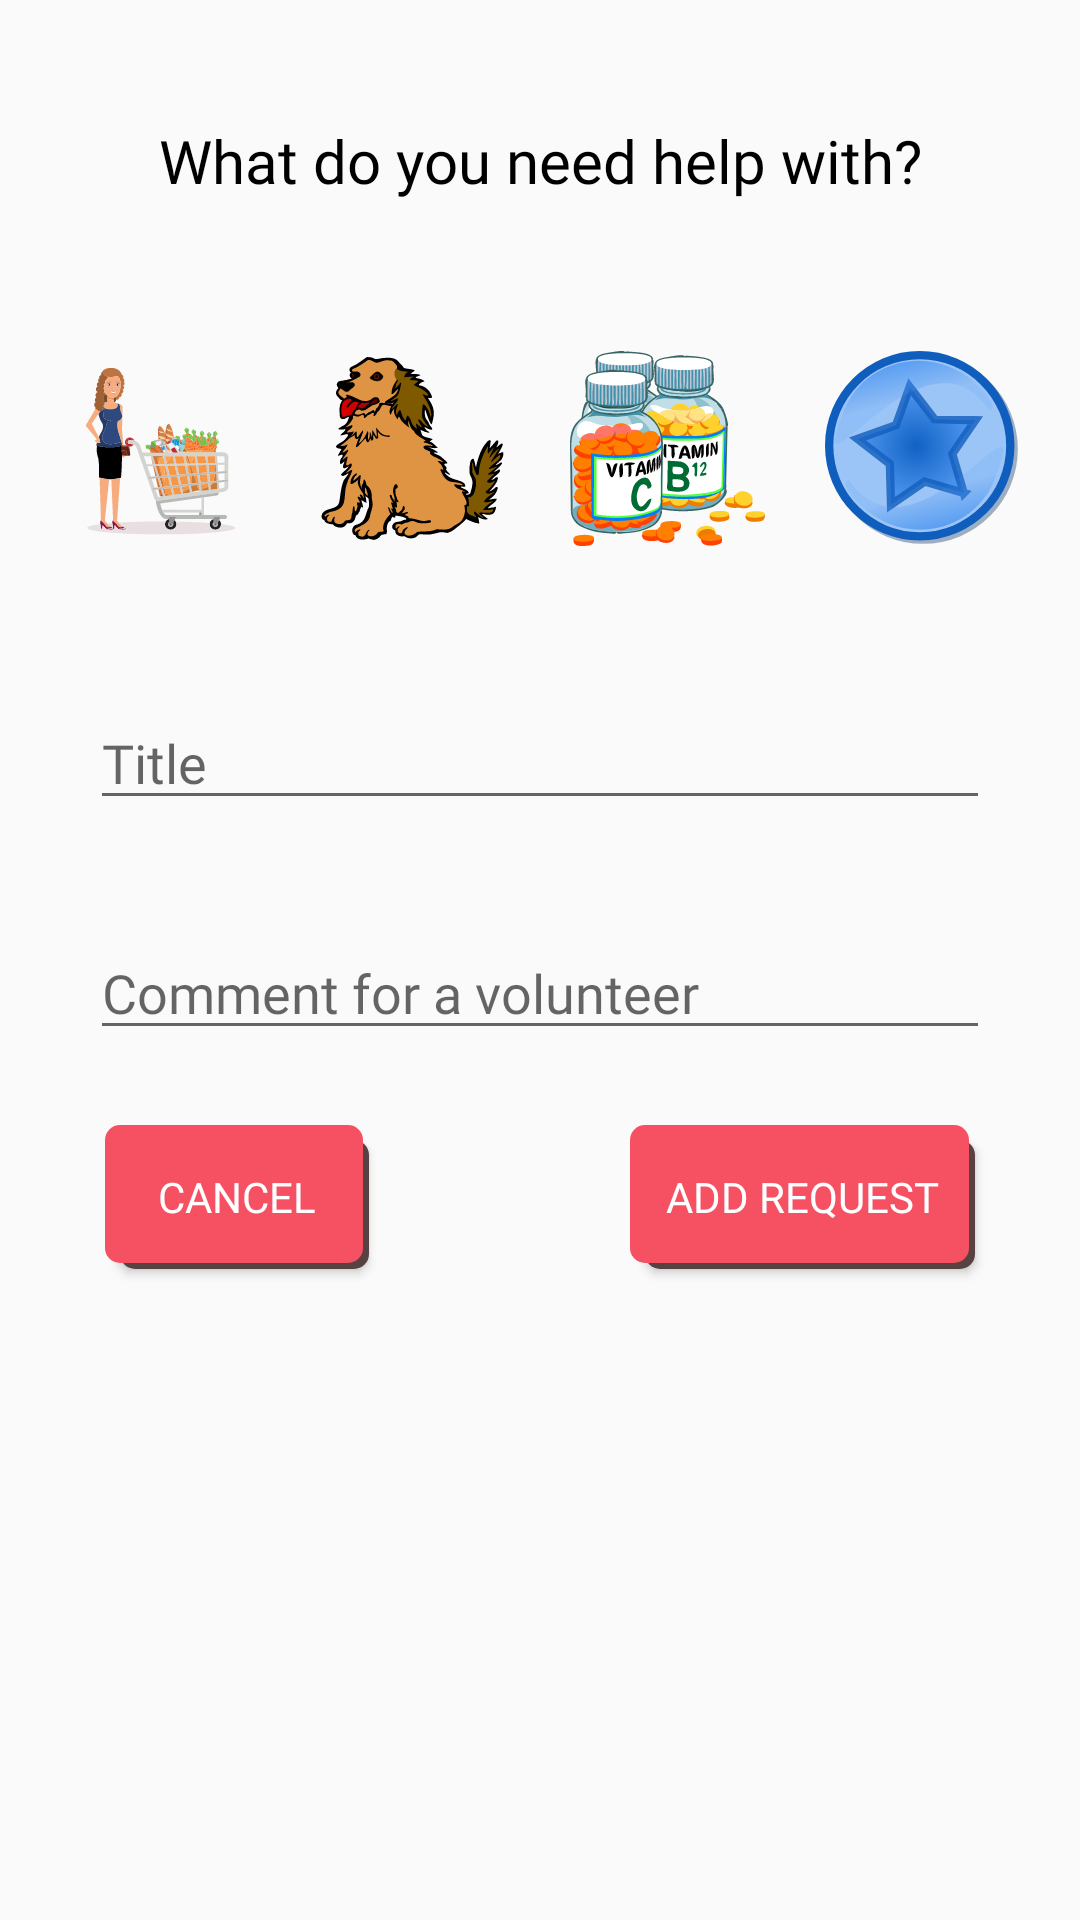

Icon bounding boxes for this 1080px x 1920px phone screenshot, format [x1,y1,x2,y2]:
checkbox dog: [321,357,504,540]
checkbox drugstore: [570,351,765,546]
checkbox groceries: [86,368,234,534]
checkbox others: [825,351,1018,544]
